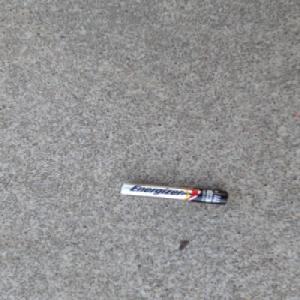Battery: (117, 181, 230, 205)
